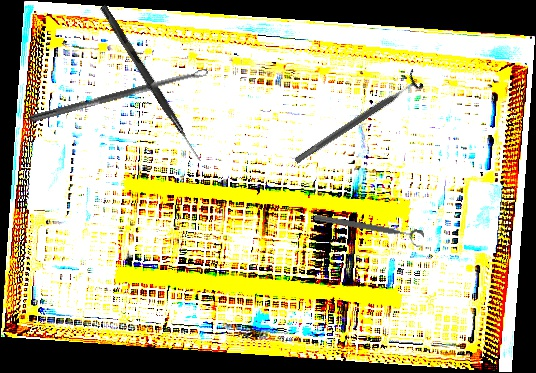Fixation Ring: (289, 68, 425, 171), (312, 211, 425, 249)
Hook Surgical: (97, 4, 206, 163)
Surgical Spoon: (28, 68, 209, 124)
